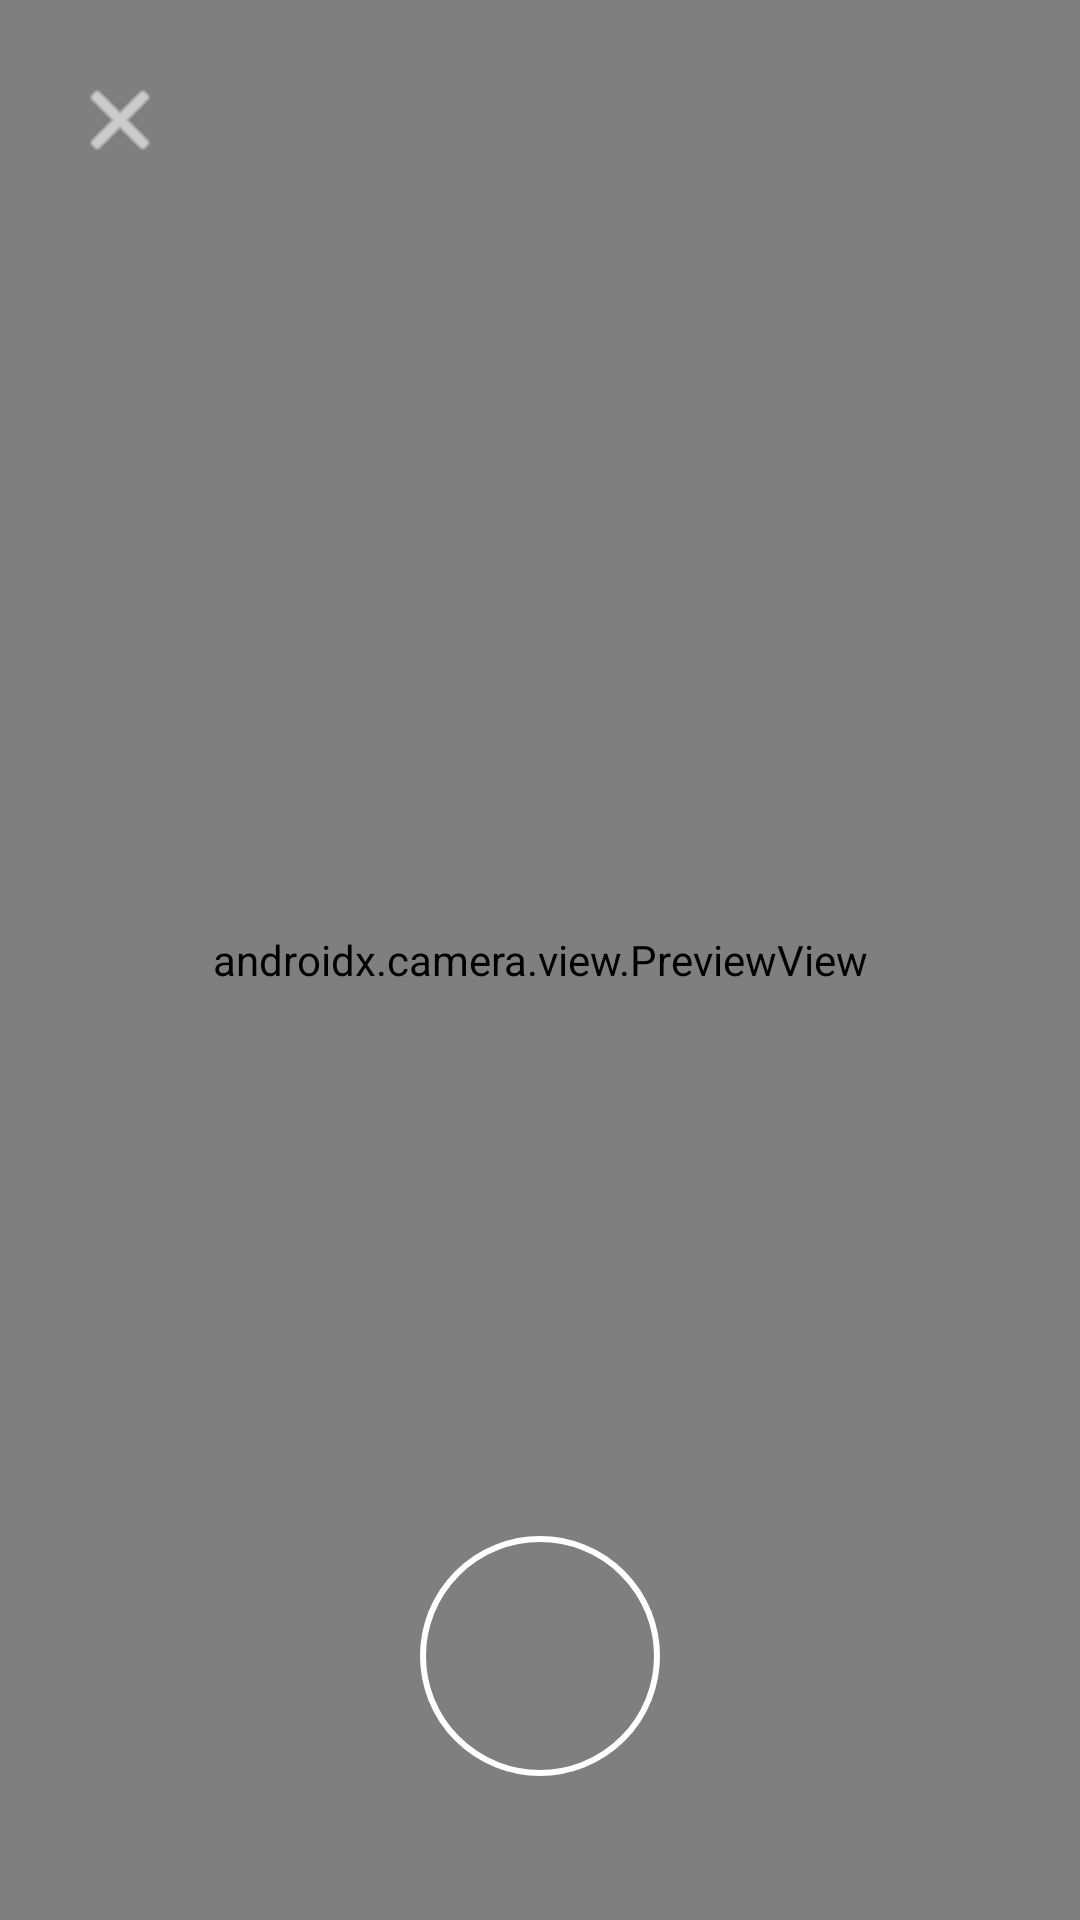

Screen size 1080w x 1920h. Icon name, then its center in pixels as point (x, y):
Close camera: point (120, 120)
